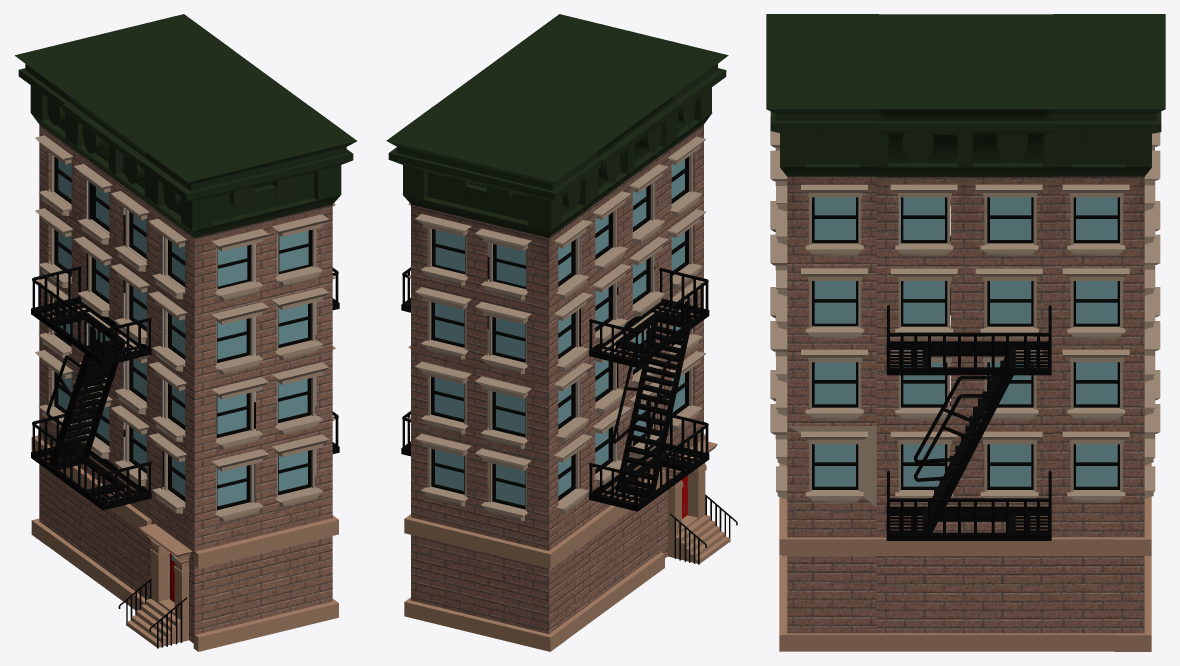
3 renders of one model, left to right at view 1: azimuth 30°, elevation 25°; view 2: azimuth 150°, elevation 25°; view 3: azimuth 270°, elevation 25°, orthographic. The views are drawn at different scales.
Parts seen in each view (by area): view 1: Building; view 2: Building; view 3: Building.
Boxes of the visible parts, left/top/right/bottom form: Building: left=15, top=14, right=356, bottom=651; Building: left=386, top=14, right=737, bottom=651; Building: left=766, top=14, right=1165, bottom=651.
Size of the model in its own units: 863 by 1655 by 1090.
9 materials, 1 textured.
